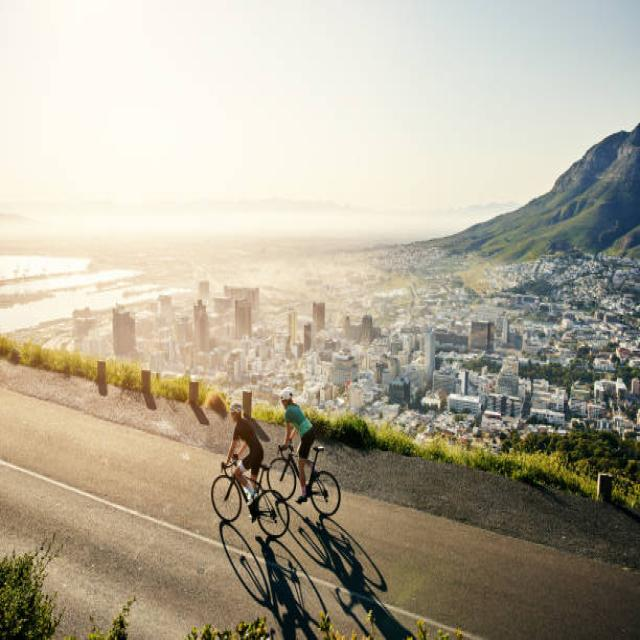bicycle: (211, 401, 289, 537), (270, 389, 340, 515)
